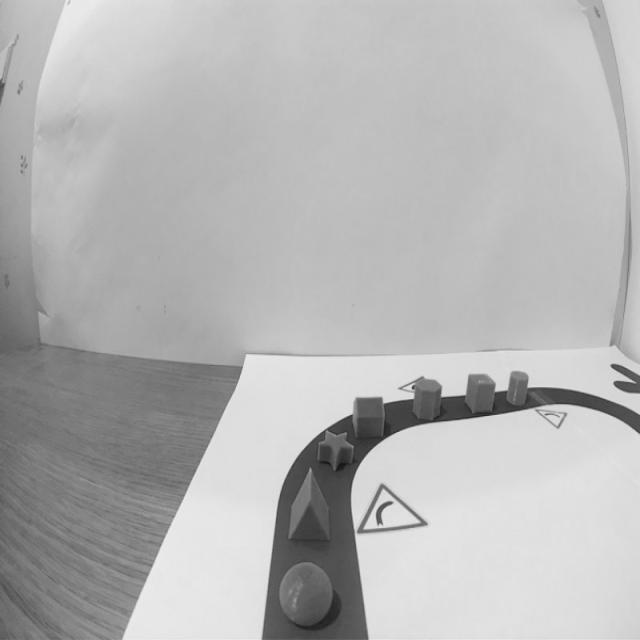ball: (276, 558, 336, 632)
cube: (464, 370, 498, 423)
cylinder: (506, 367, 530, 411)
hexagon: (410, 373, 446, 427)
home: (349, 391, 390, 442)
rightTurn: (344, 468, 432, 550)
star: (314, 426, 358, 472)
triangle: (284, 466, 334, 545)
